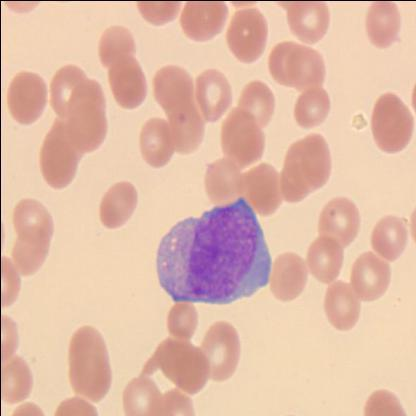Promyelocyte: (154, 199, 269, 305)
